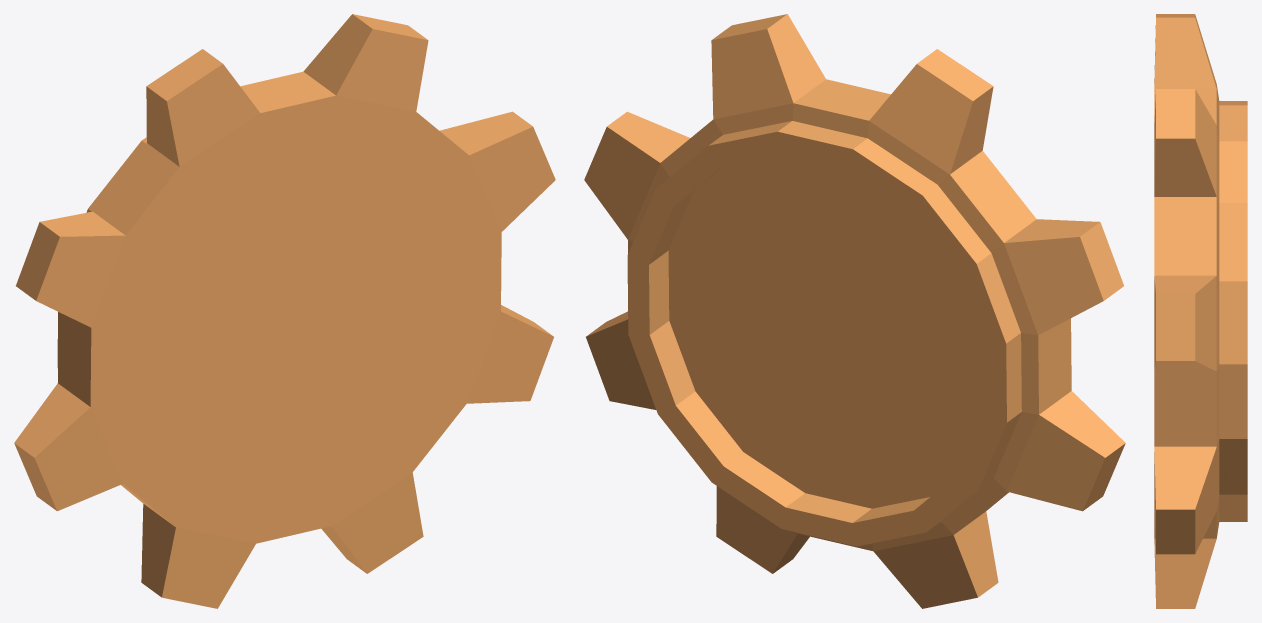
Rendered from Turret_base.fbx.
3 views of the same model, side by side, from view 1: azimuth 30°, elevation 25°; view 2: azimuth 150°, elevation 25°; view 3: azimuth 270°, elevation 25° (orthographic). The views are drawn at different scales.
Parts seen in each view (by area): view 1: Turret_Base.001; view 2: Turret_Base.001; view 3: Turret_Base.001.
Boxes of the visible parts, x1,y1,x2,y2 form: Turret_Base.001: (14, 14, 555, 608); Turret_Base.001: (584, 14, 1125, 608); Turret_Base.001: (1154, 14, 1247, 608).
Bounding box in the file's own units: 498 × 498 × 80.92.
